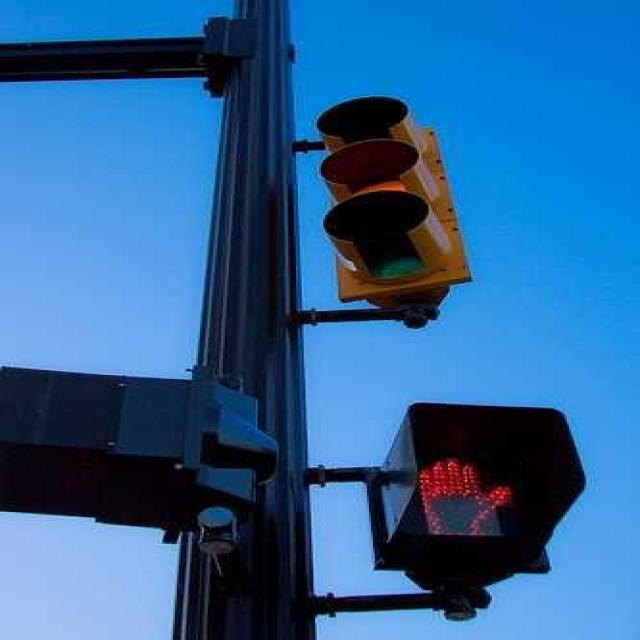Traffic Light -Yellow-: (302, 90, 491, 310)
